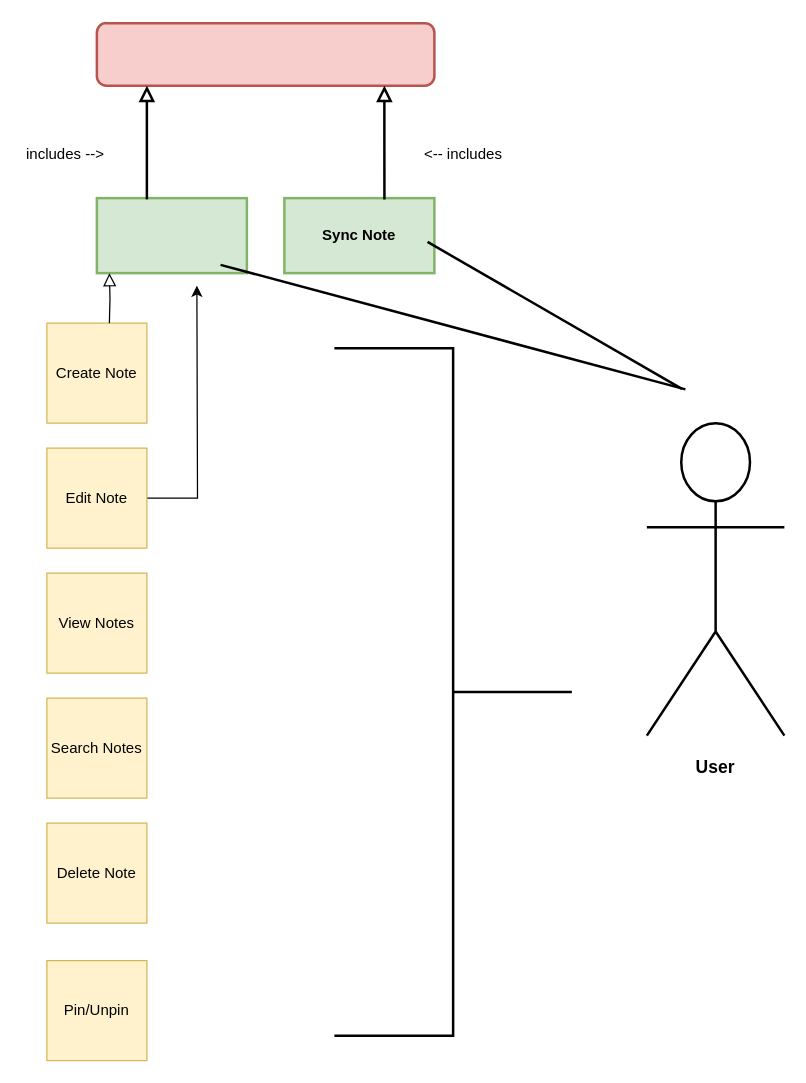
The diagram is 806 pixels wide and 1083 high, and some of its shapes have lost their labels. Each missing label, with the box of its shape:
Save Note: (95, 196, 248, 274)
Sticky Notes App: (95, 21, 435, 86)
